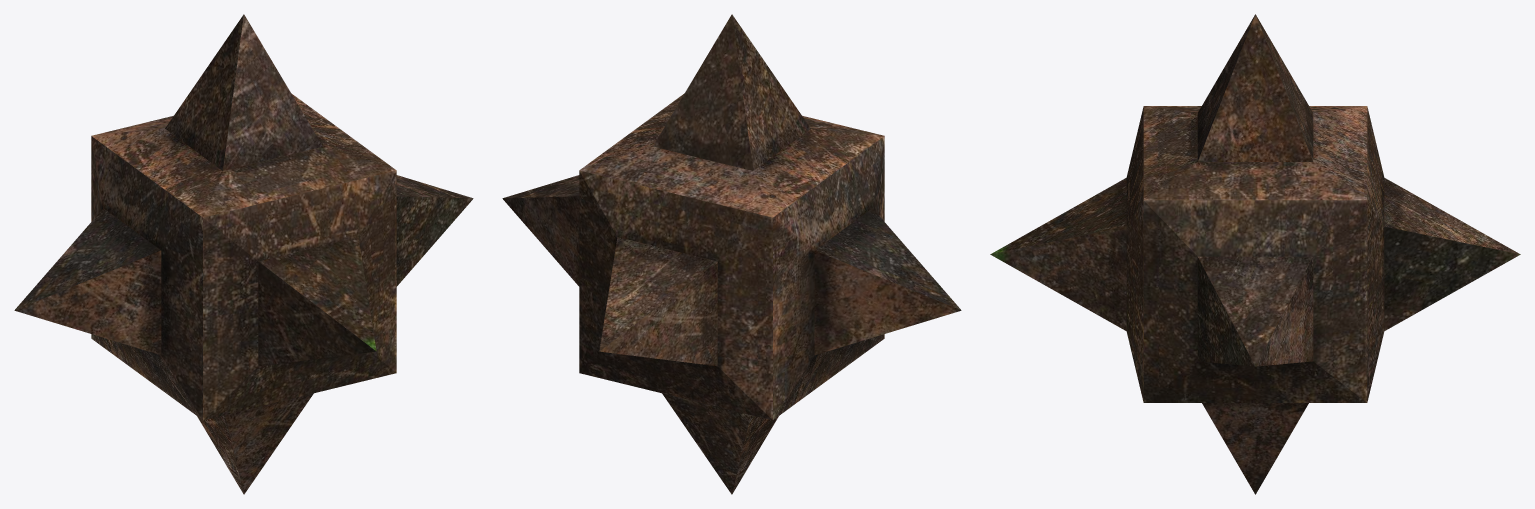
File: PincheOxidado.fbx
3 renders of one model, left to right at view 1: azimuth 30°, elevation 25°; view 2: azimuth 150°, elevation 25°; view 3: azimuth 270°, elevation 25°, orthographic.
Visible parts, largest first — view 1: Pinche; view 2: Pinche; view 3: Pinche.
Boxes of the visible parts, x1,y1,x2,y2 form: Pinche: [14, 14, 473, 494]; Pinche: [502, 14, 961, 494]; Pinche: [990, 14, 1520, 494].
Size of the model in its own units: 600 by 600 by 600.
1 material, 1 textured.
